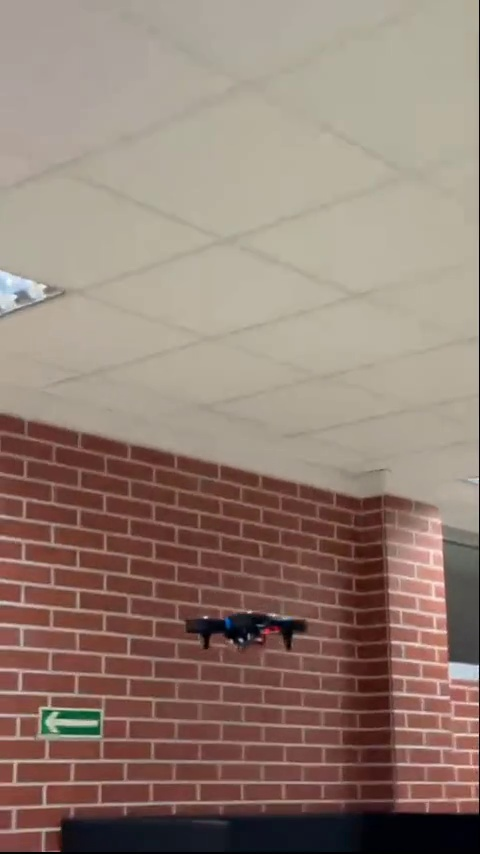drone: (182, 609, 308, 652)
